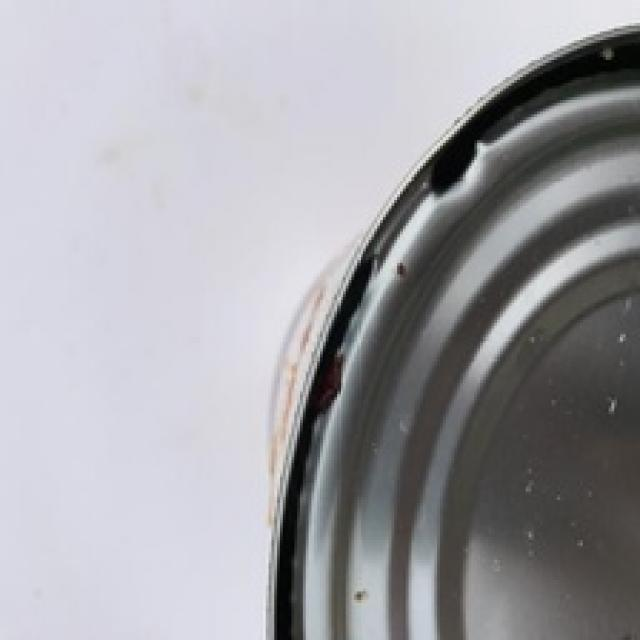recyclable: (262, 26, 640, 640)
